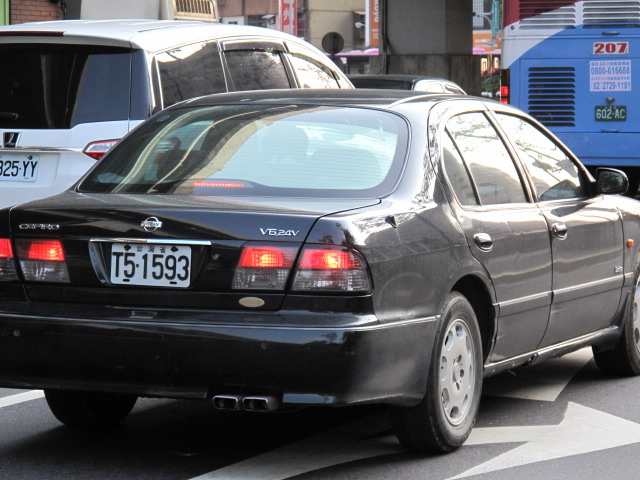plate: (108, 238, 195, 292), (0, 153, 42, 184), (592, 103, 631, 123)
